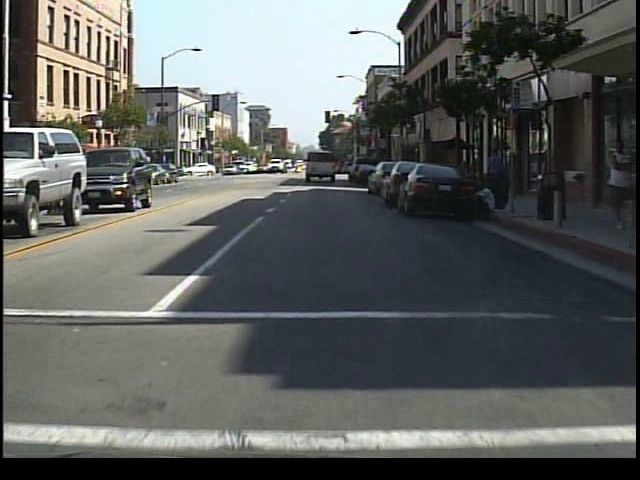person: (600, 125, 634, 237), (484, 142, 509, 205), (501, 149, 525, 204)
